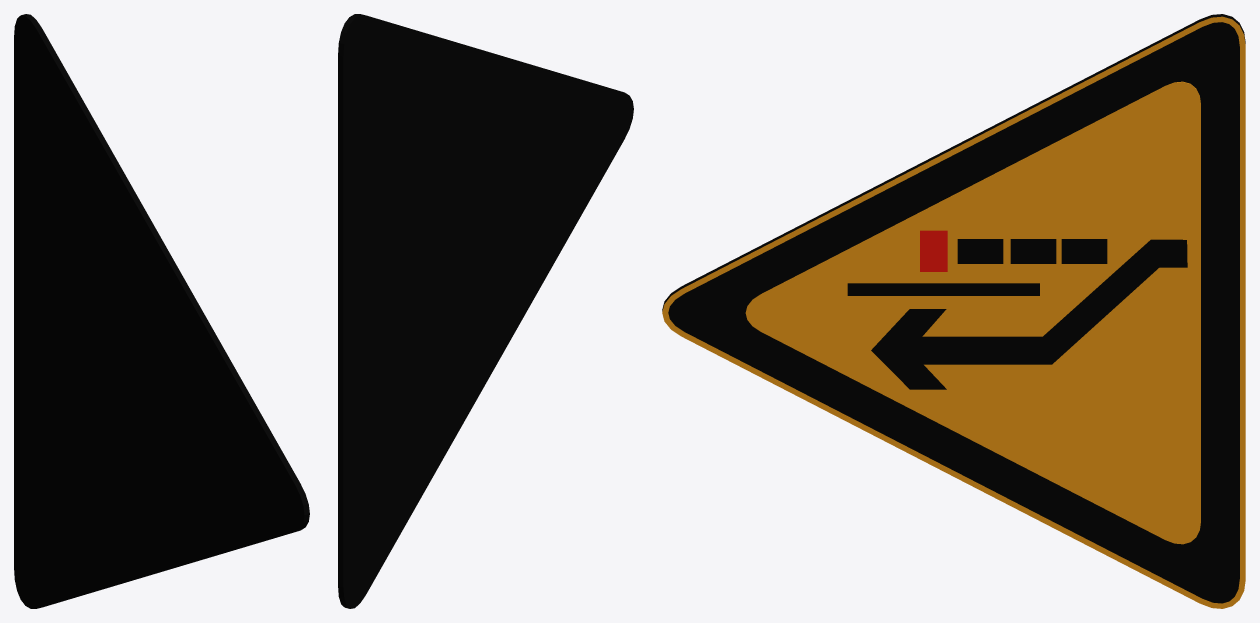
Rendered from 改道标志.gltf.
3 renders of one model, left to right at view 1: azimuth 30°, elevation 25°; view 2: azimuth 150°, elevation 25°; view 3: azimuth 270°, elevation 25°, orthographic.
Visible parts, largest first — view 1: 平面.001; view 2: 平面.001; view 3: 平面.003, 平面.001, BezierCurve.002, 平面, 平面.006, 平面.002, 平面.004, 平面.005.
Part boxes in pixels (box(x1,y1,x2,y2)): 平面.001: box(14, 14, 309, 608); 平面.001: box(338, 14, 633, 608); 平面.003: box(745, 81, 1200, 544); 平面.001: box(662, 14, 1245, 608); BezierCurve.002: box(871, 239, 1187, 389); 平面: box(847, 283, 1039, 295); 平面.006: box(920, 230, 947, 271); 平面.002: box(1061, 239, 1107, 263); 平面.004: box(1010, 239, 1056, 263); 平面.005: box(957, 239, 1003, 263).
Size of the model in its own units: 0.0118 by 0.9304 by 0.8307.
